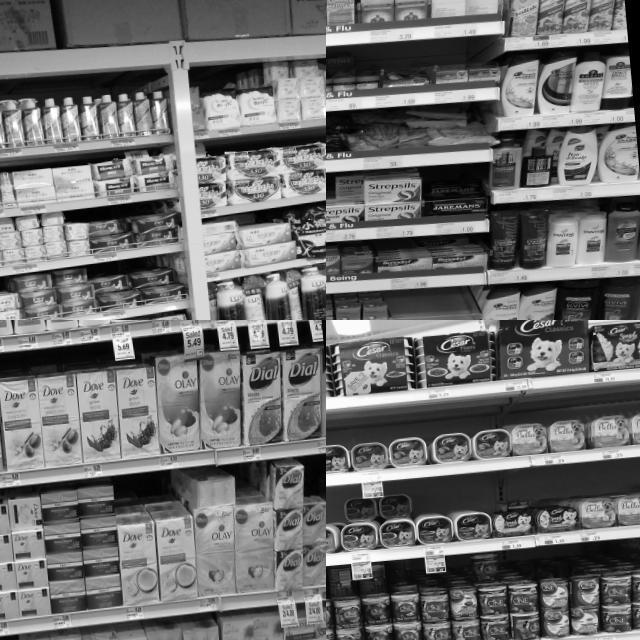Imprecise: (327, 561, 396, 640), (342, 494, 417, 550), (472, 548, 516, 640), (326, 170, 368, 233)
